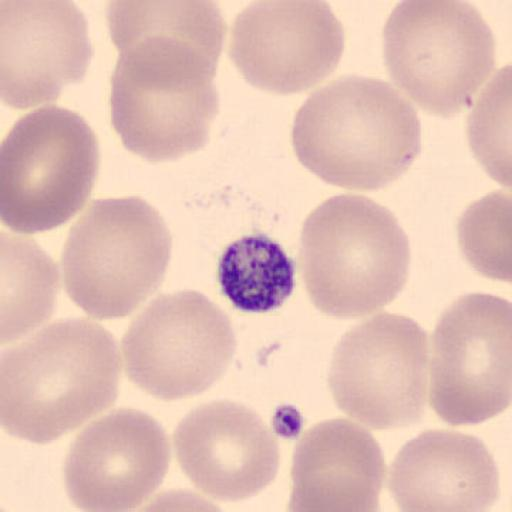Platelet: (214, 229, 298, 315)
RBC: (289, 73, 424, 195), (2, 317, 122, 446), (295, 191, 413, 321), (108, 34, 222, 165), (60, 194, 174, 322), (120, 286, 240, 402), (381, 0, 497, 117), (2, 103, 102, 236), (326, 310, 431, 434), (60, 406, 172, 512), (172, 397, 282, 504), (226, 0, 347, 97), (428, 292, 512, 426), (2, 0, 95, 107), (104, 1, 227, 81), (386, 427, 500, 512), (289, 416, 387, 512), (2, 235, 61, 345), (466, 60, 512, 192), (455, 188, 512, 284), (287, 474, 379, 512), (115, 486, 236, 512)
